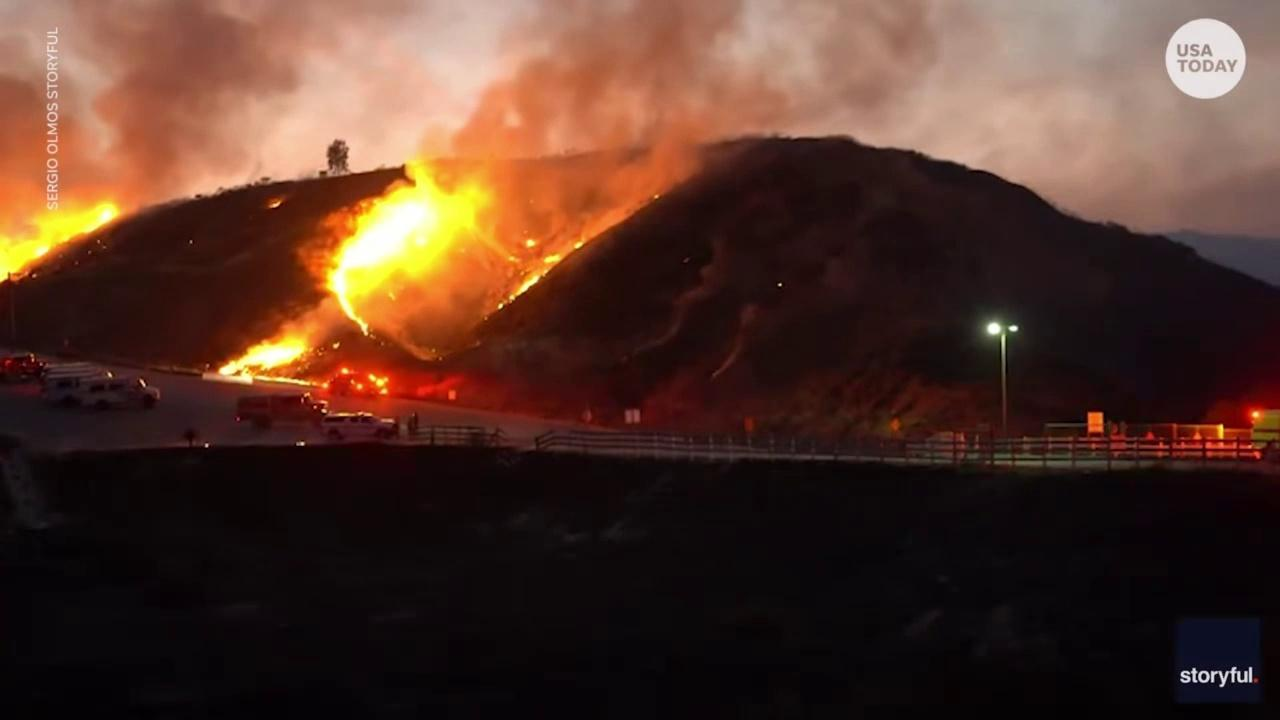fire: (321, 169, 476, 336), (0, 200, 121, 284), (218, 336, 320, 386), (510, 275, 541, 300), (269, 199, 283, 209), (544, 254, 560, 262), (332, 341, 341, 350), (574, 242, 583, 250), (527, 239, 536, 247), (497, 303, 504, 309), (508, 256, 515, 262), (777, 282, 783, 287), (189, 239, 194, 244), (655, 194, 660, 198)
smoke: (353, 0, 941, 361), (0, 0, 414, 240), (280, 296, 358, 348)
